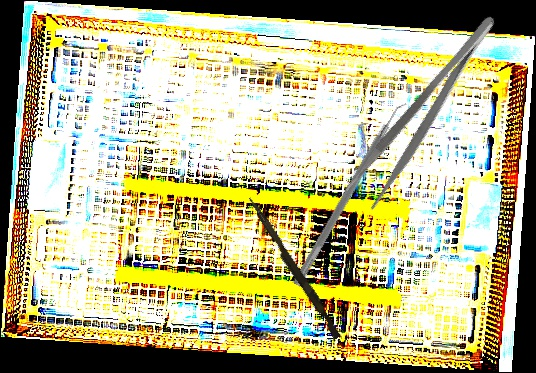Dressing Forceps: (340, 10, 516, 214)
Pusher: (242, 196, 345, 340)
Spatula Surgical: (292, 97, 412, 292)
